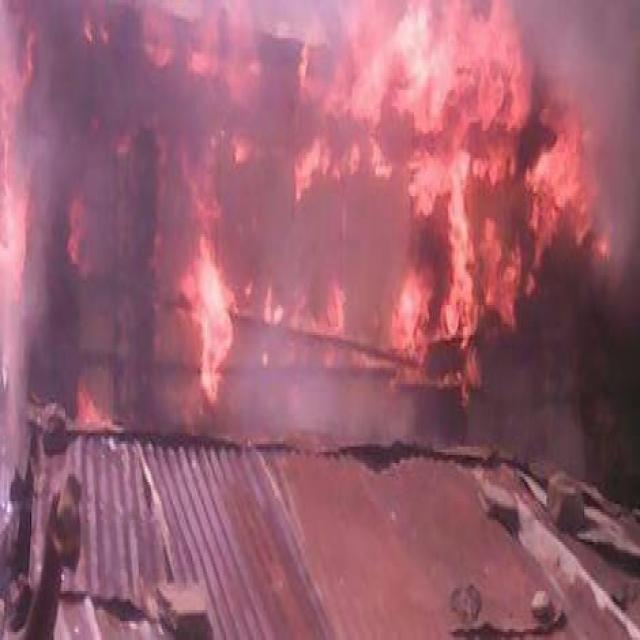Fire: (0, 0, 38, 316), (435, 135, 485, 345), (180, 238, 233, 414), (393, 252, 435, 376), (256, 273, 289, 335), (292, 141, 322, 207)
Smoke: (291, 0, 640, 207)
